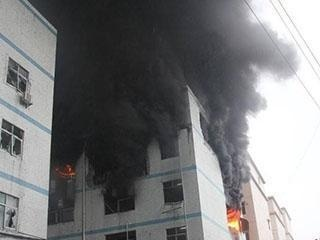fire: (226, 207, 243, 230), (56, 162, 76, 176)
